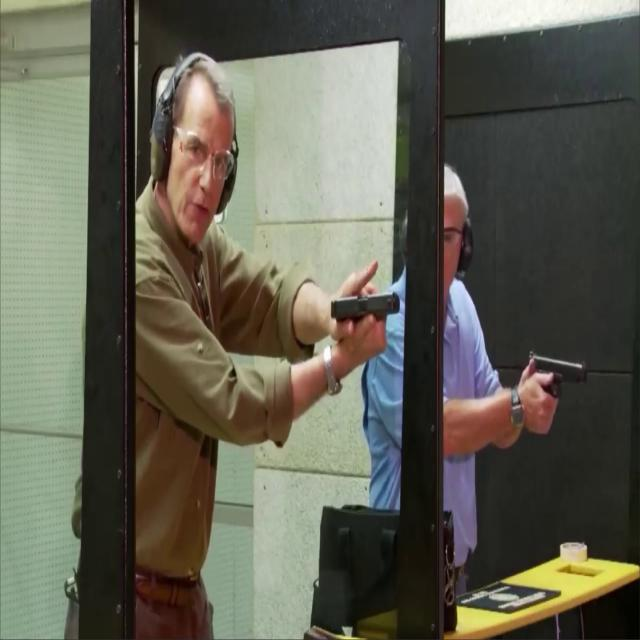Gun: (526, 351, 586, 402), (331, 291, 402, 331)
